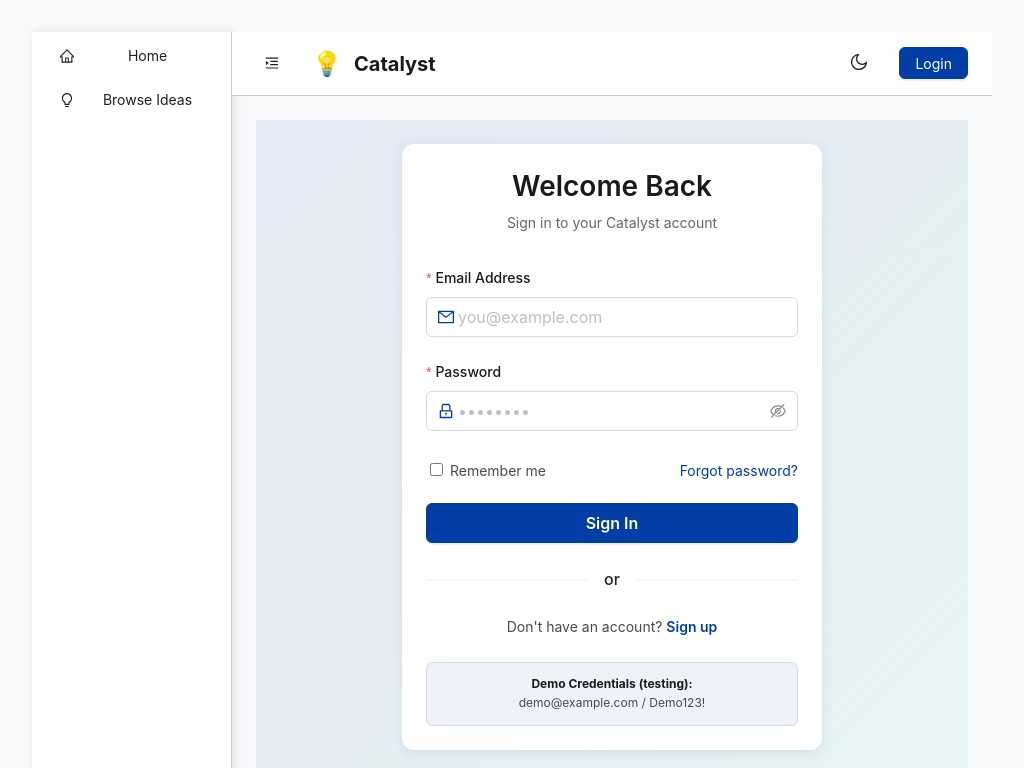
Scenario: LoginPage Component › should validate email format
Type "invalid-email" into the field with test id "login-email-input" at (622, 317), box [458,305,786,329]
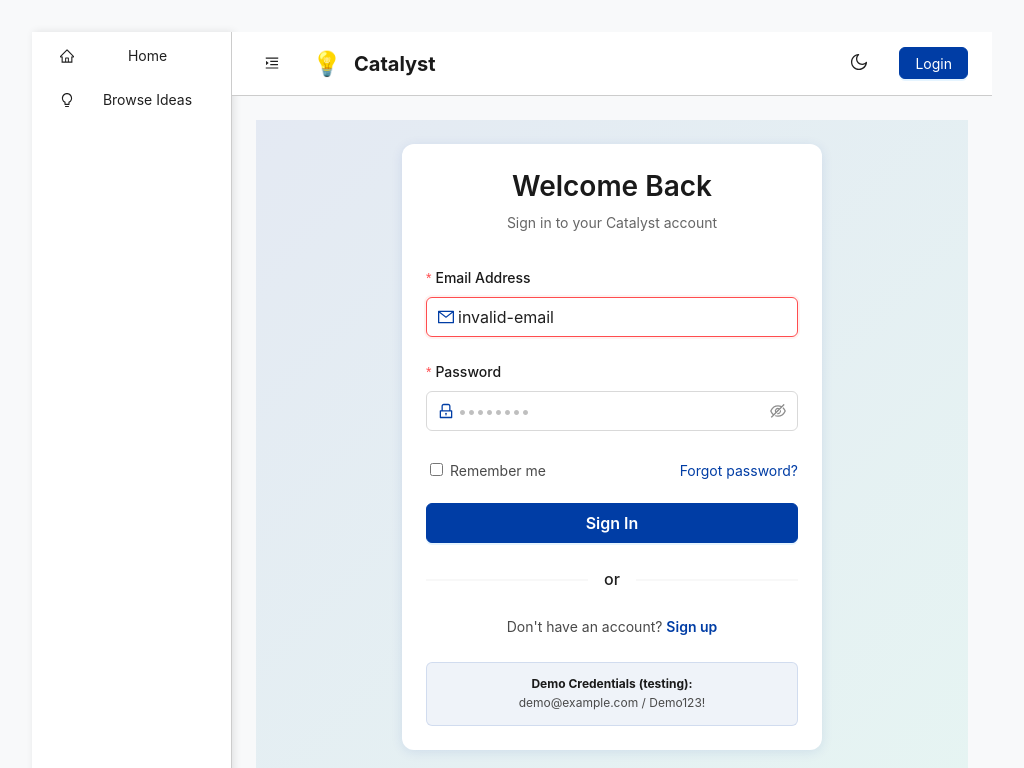
Click the button with test id "login-submit" at (612, 523), box [426,503,798,543]
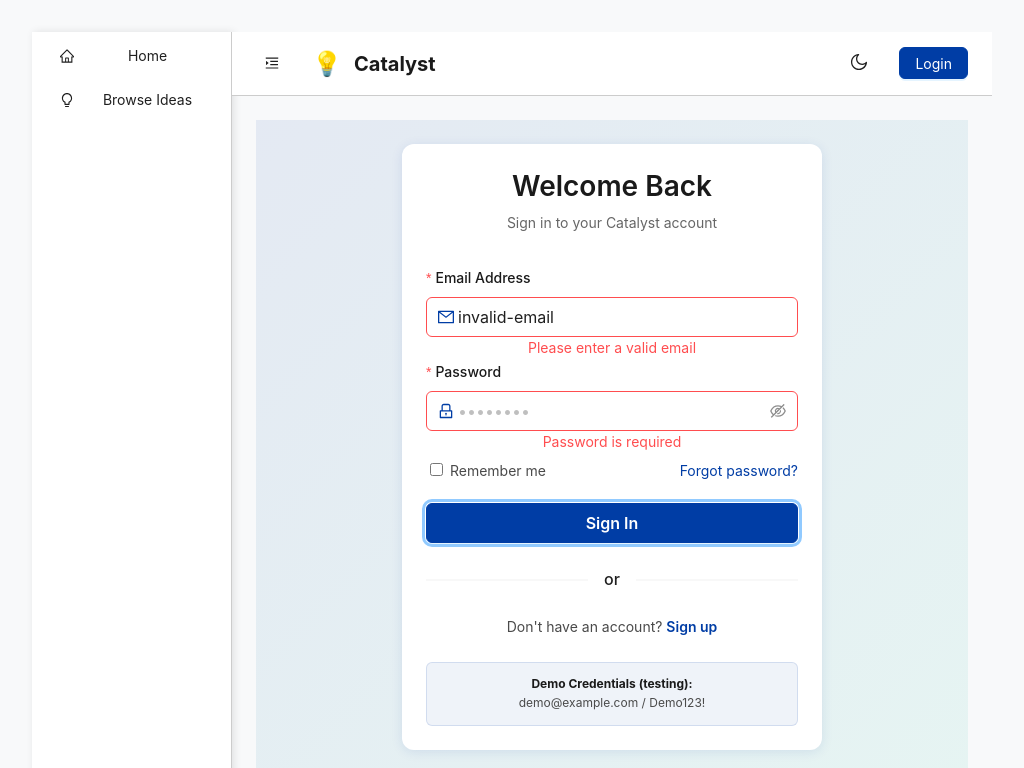
Expected: the text "Please enter a valid email" is shown, [528,339,696,356]
